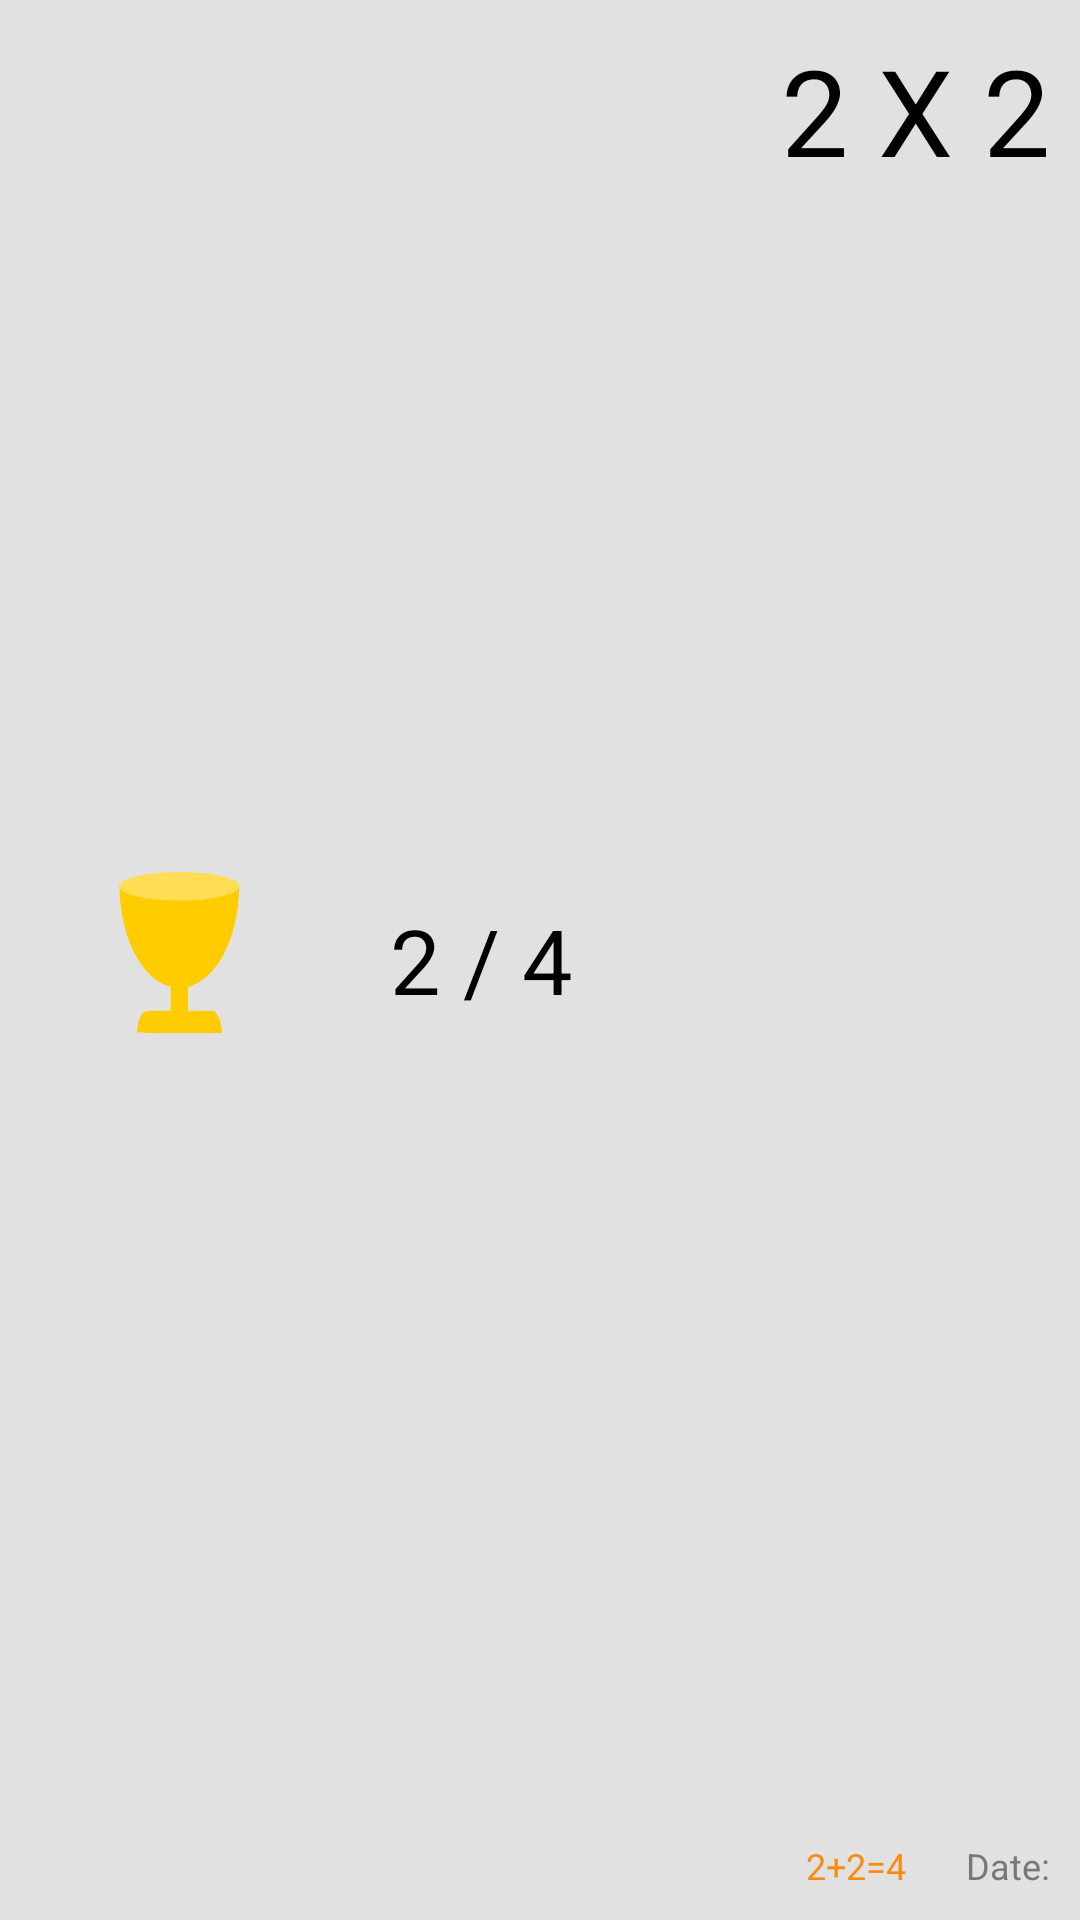

Where to tap for icons on this 1080*1920 app screen, as (x,y):
cup: (179,952)
